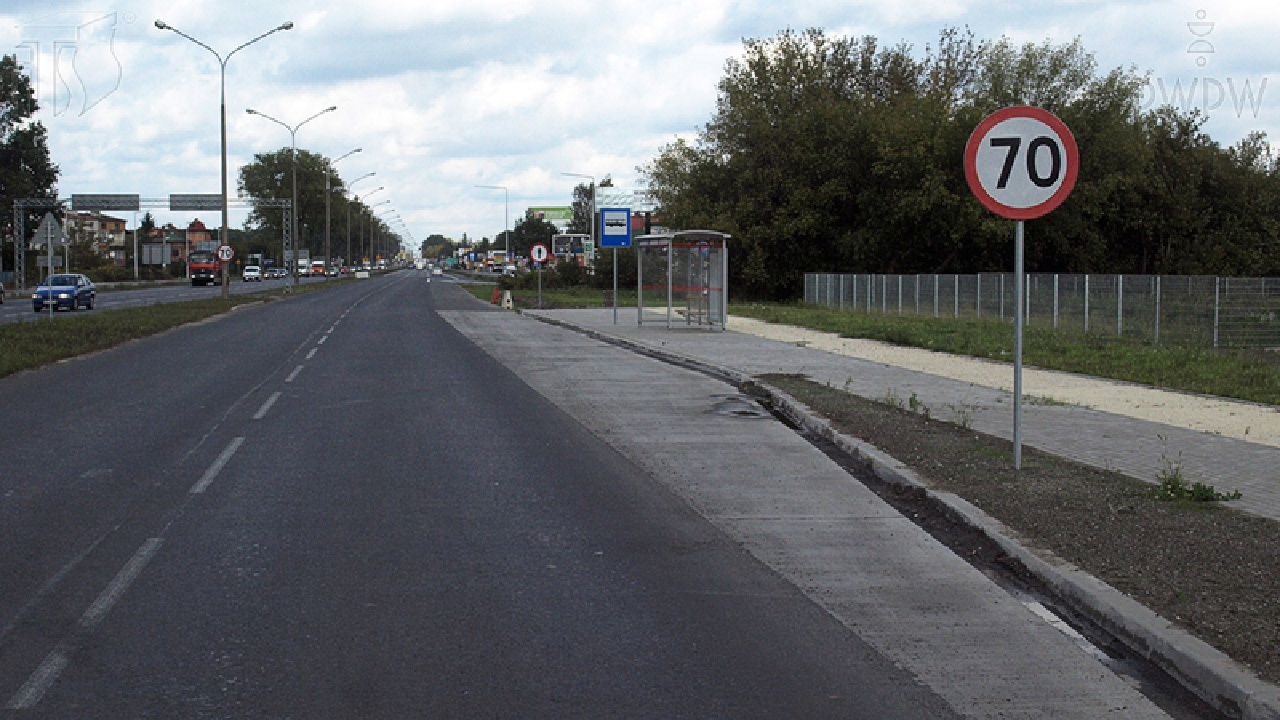B33_70: (963, 105, 1079, 220)
